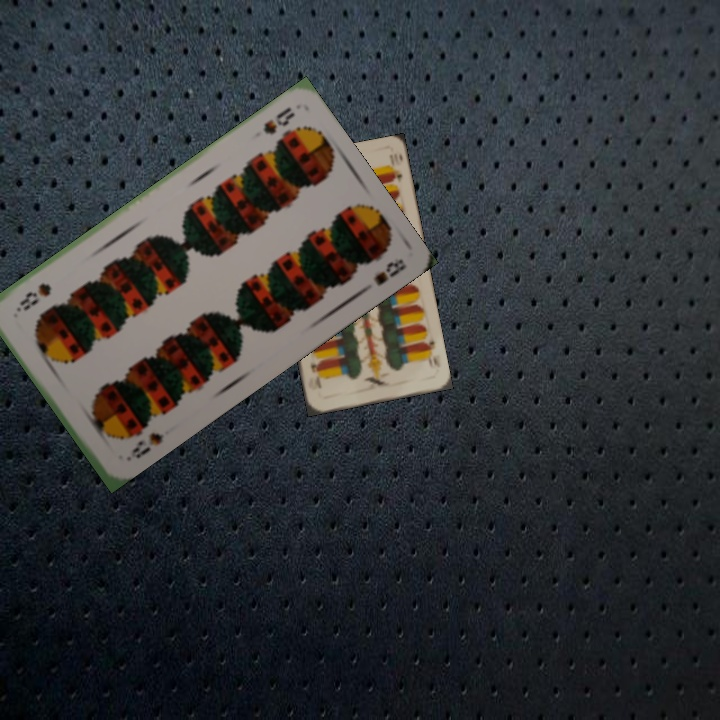E10: (420, 337, 442, 371)
S8: (121, 428, 167, 464), (259, 102, 298, 138)
